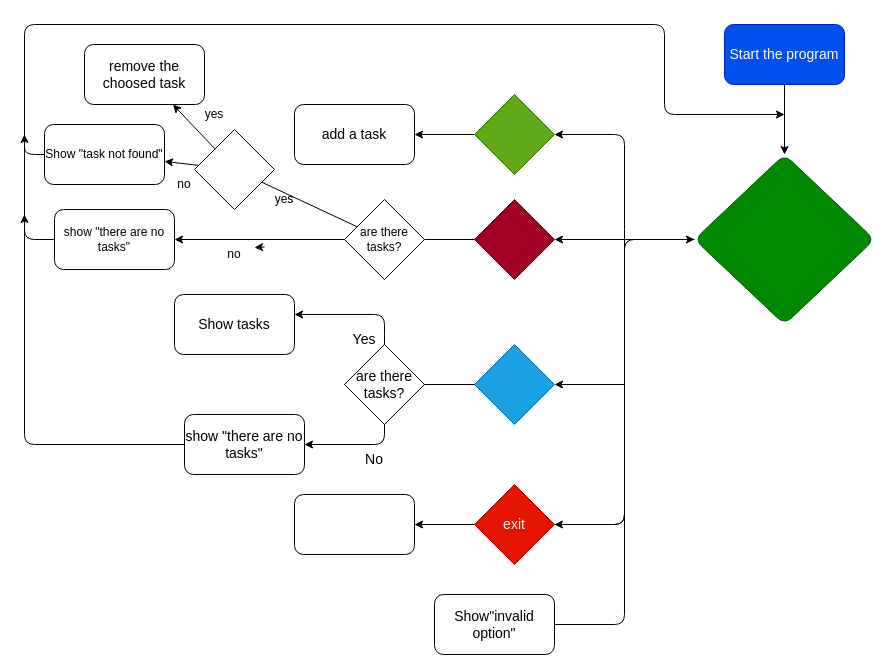
This 892x672 diagram has some shape labels left out. Here are the shapes that lost their labels. From the top down, the centre of each, then its label:
At [514,134]: "add".
At [234,169]: "are the choosen task found".
At [514,239]: "remove".
At [784,239]: "Ask for Command ( add, remove, view or exit)".
At [514,384]: "view".
At [354,524]: "exit the program".
